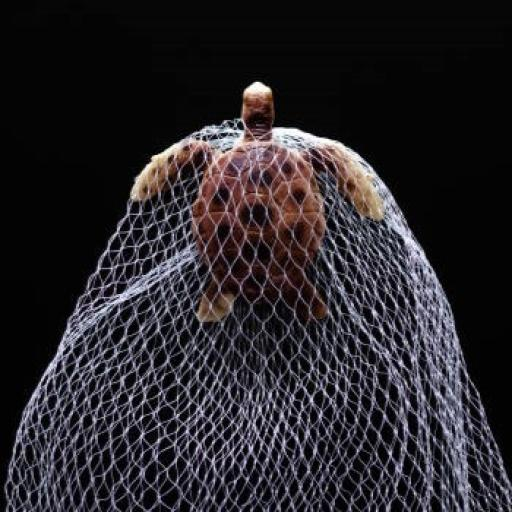net: (0, 170, 512, 512)
